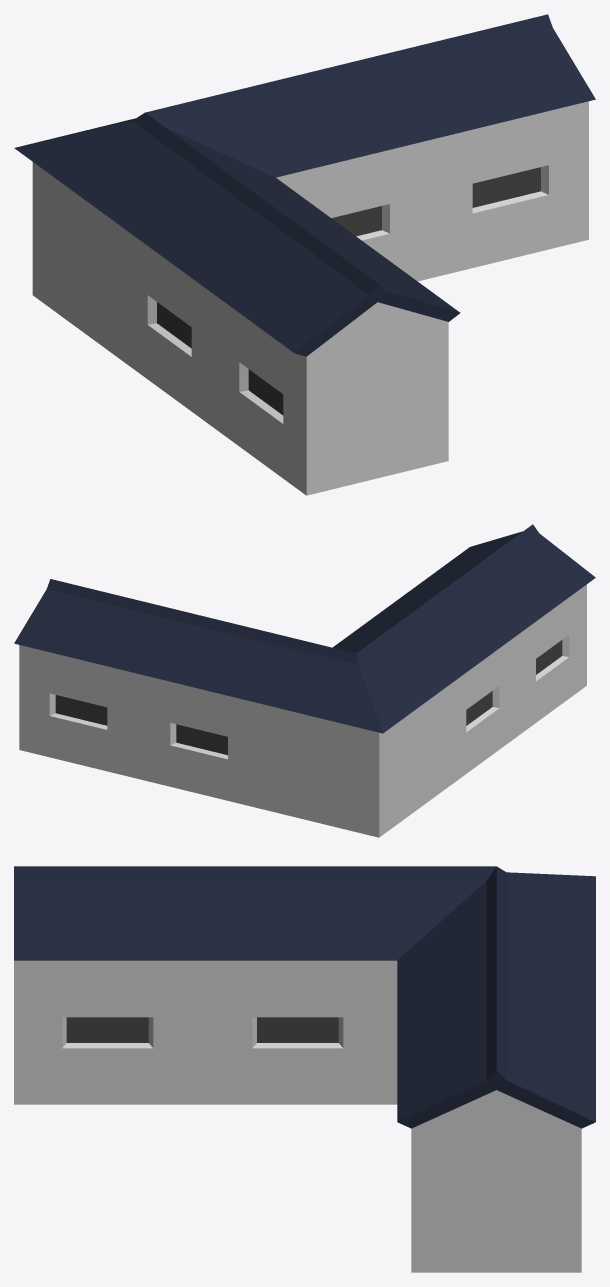
The model's file is wall-japan-edge-medium.fbx.
The picture shows the model from 3 angles, top to bottom: view 1: azimuth 30°, elevation 25°; view 2: azimuth 150°, elevation 25°; view 3: azimuth 270°, elevation 25°; orthographic projection. The views are drawn at different scales.
Visible parts, largest first — view 1: wall-japan-edge-medium; view 2: wall-japan-edge-medium; view 3: wall-japan-edge-medium.
Part boxes in pixels (box(x1,y1,x2,y2)): wall-japan-edge-medium: box(14, 14, 595, 495); wall-japan-edge-medium: box(14, 524, 595, 837); wall-japan-edge-medium: box(14, 866, 595, 1272).
Bounding box in the file's own units: 10.25 × 3.94 × 10.25.
